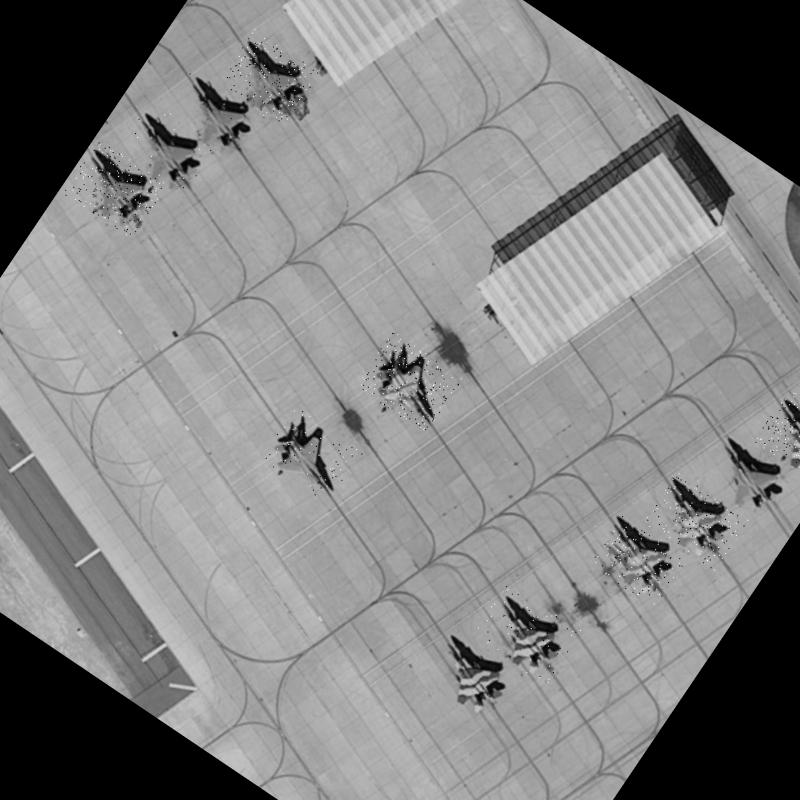A13: (470, 582, 582, 688), (416, 622, 526, 728), (354, 331, 464, 435), (159, 66, 269, 169), (642, 470, 750, 570), (62, 139, 168, 240), (260, 406, 364, 506), (218, 29, 320, 127), (696, 432, 796, 528), (115, 104, 216, 198), (589, 515, 688, 609), (753, 386, 800, 488)
